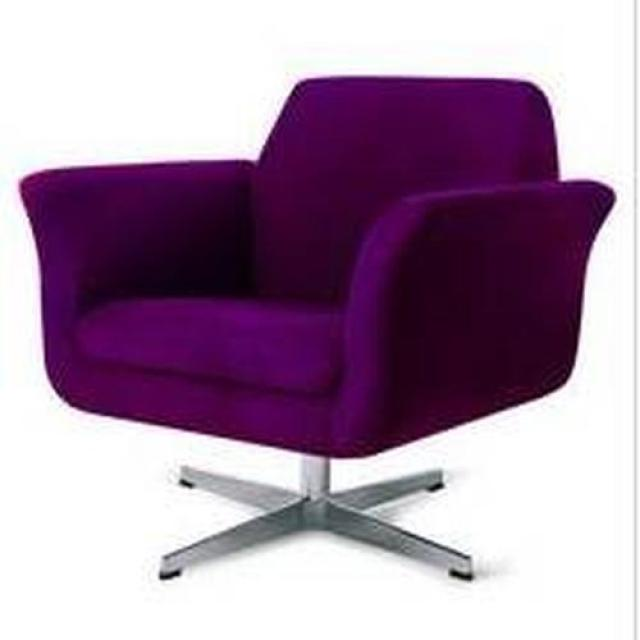swivelchair: (14, 76, 618, 582)
